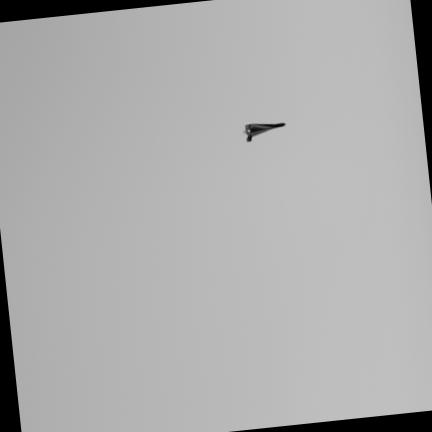Shahed: (246, 123, 284, 140)
